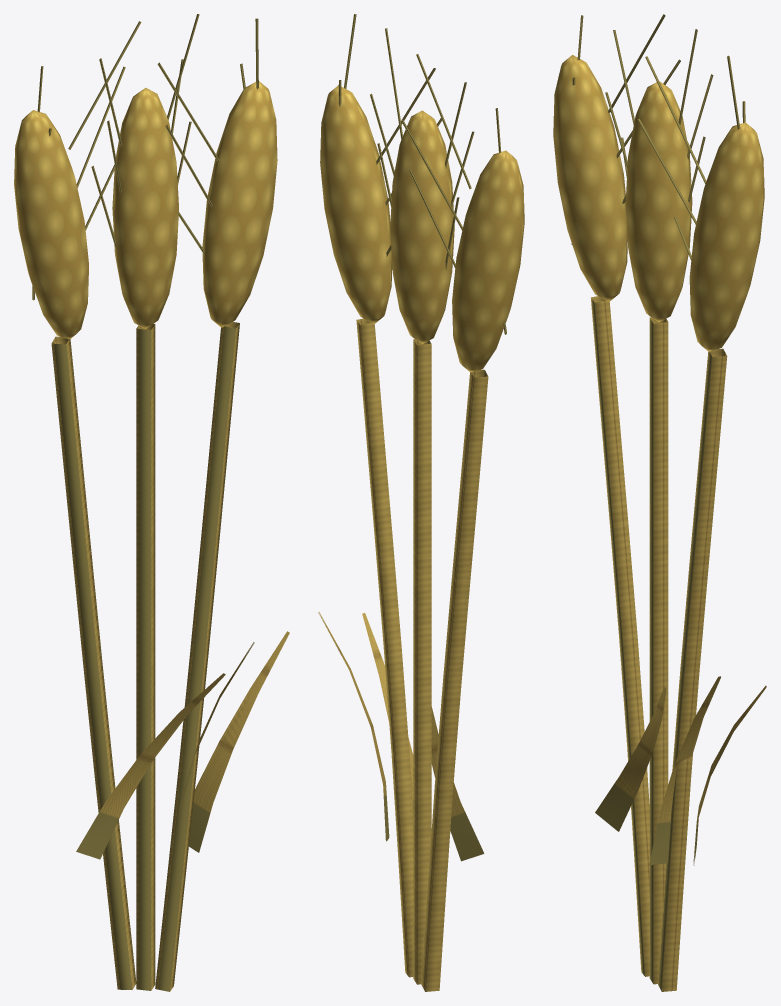
File: wheatgrain.obj
3 views of the same model, side by side, from view 1: azimuth 30°, elevation 25°; view 2: azimuth 150°, elevation 25°; view 3: azimuth 330°, elevation 25° (orthographic). The views are drawn at different scales.
Visible parts, largest first — view 1: wheatgrain_0_surface; view 2: wheatgrain_0_surface; view 3: wheatgrain_0_surface.
Boxes of the visible parts, left/top/right/bottom form: wheatgrain_0_surface: left=14, top=14, right=289, bottom=991; wheatgrain_0_surface: left=318, top=14, right=524, bottom=991; wheatgrain_0_surface: left=553, top=14, right=766, bottom=991.
Size of the model in its own units: 0.1073 by 0.4105 by 0.0487.
1 material, 1 textured.
